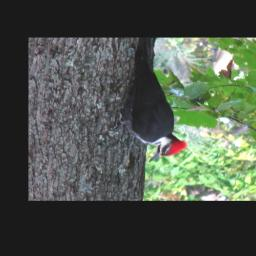Woodpecker: (109, 38, 190, 163)
